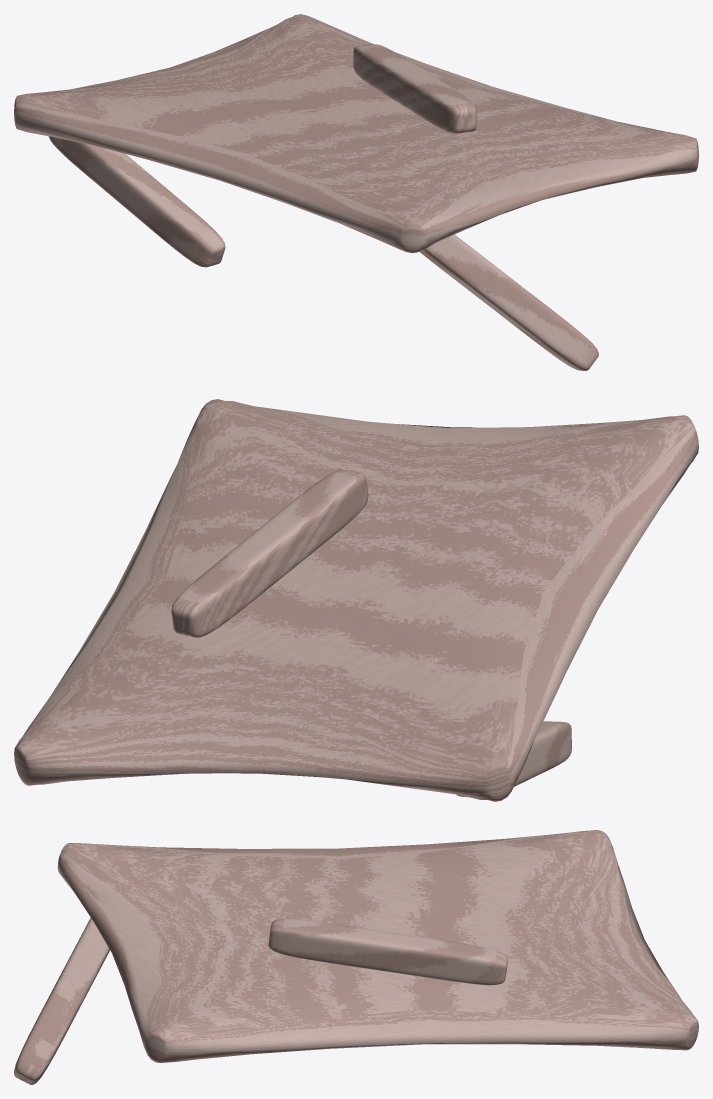
File: desk_broken.fbx
3 views of the same model, one above another, from view 1: azimuth 30°, elevation 25°; view 2: azimuth 150°, elevation 25°; view 3: azimuth 270°, elevation 25° (orthographic). The views are drawn at different scales.
Parts seen in each view (by area): view 1: desk_broken_text:polySurface6; view 2: desk_broken_text:polySurface6; view 3: desk_broken_text:polySurface6.
Part boxes in pixels (box(x1,y1,x2,y2)): desk_broken_text:polySurface6: box(14, 14, 698, 370); desk_broken_text:polySurface6: box(14, 399, 698, 801); desk_broken_text:polySurface6: box(14, 830, 698, 1084).
Bounding box in the file's own units: 2.87 × 1.02 × 3.75.
1 material, 1 textured.
